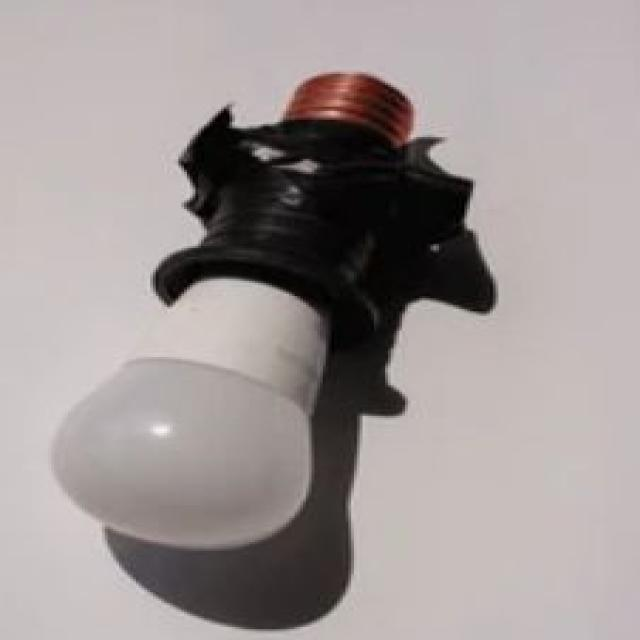electronic: (48, 68, 493, 629), (48, 352, 314, 550)
